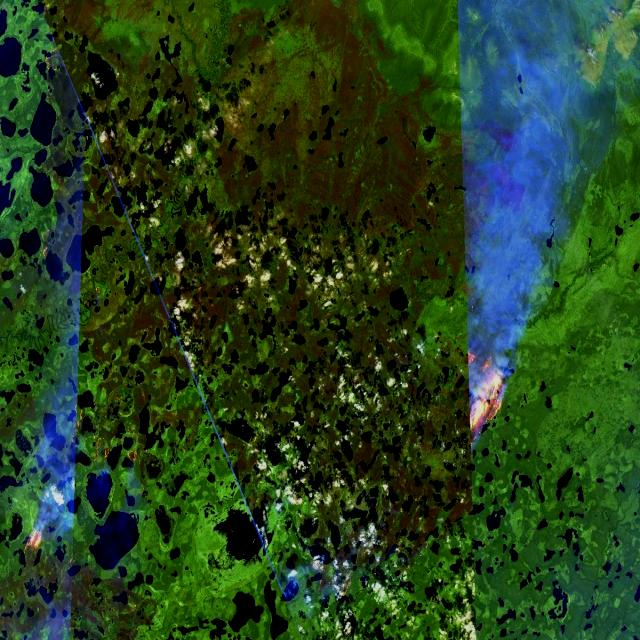fire: (462, 328, 513, 452), (15, 511, 48, 566)
